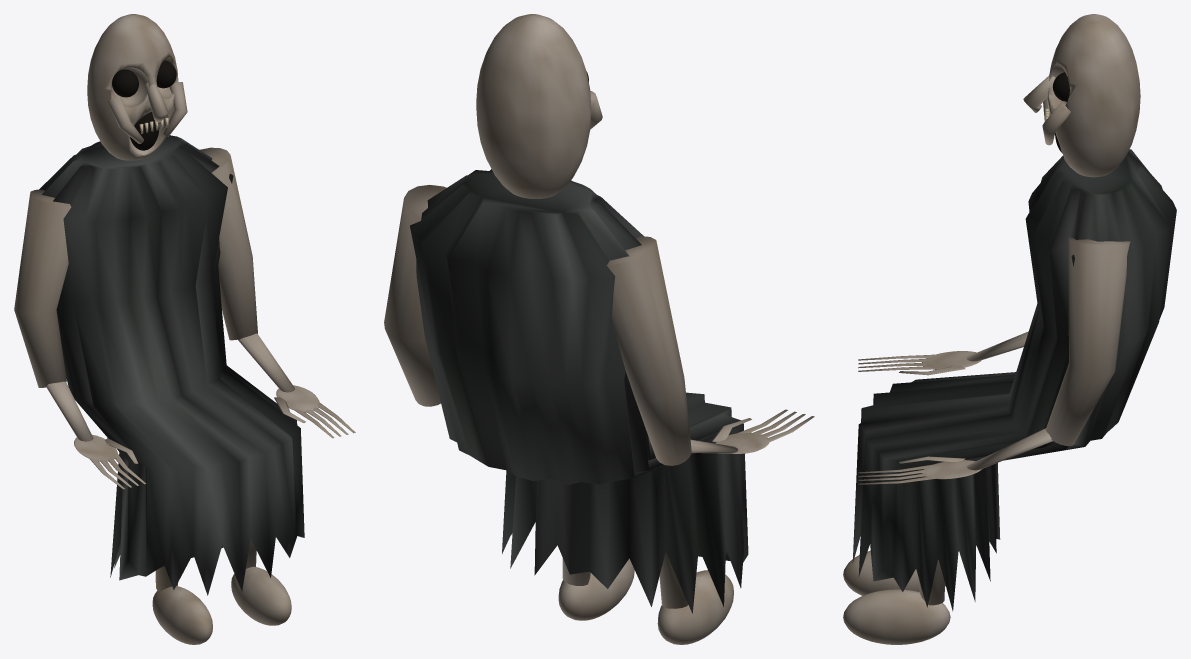
The model's file is seated-visitor.glb.
3 renders of one model, left to right at view 1: azimuth 30°, elevation 25°; view 2: azimuth 150°, elevation 25°; view 3: azimuth 270°, elevation 25°, orthographic. The views are drawn at different scales.
Parts seen in each view (by area): view 1: Torso, ArmL, ArmR, Head, LegL, LegR, Cheek ridge.001, Cheek ridge, Hollow eyes, Mouth darkness, Nasal bone; view 2: Torso, Head, ArmL, ArmR, LegL, LegR; view 3: Torso, ArmR, Head, LegR, ArmL, LegL, Cheek ridge.001, Nasal bone.
Boxes of the visible parts, box(x1,y1,x2,y2) form: Torso: box(39, 135, 304, 595); ArmL: box(14, 189, 146, 489); ArmR: box(199, 147, 355, 438); Head: box(87, 14, 178, 160); LegL: box(152, 566, 212, 644); LegR: box(231, 539, 291, 625); Cheek ridge.001: box(162, 82, 187, 136); Cheek ridge: box(107, 96, 143, 143); Hollow eyes: box(112, 69, 138, 97); Mouth darkness: box(130, 111, 159, 150); Nasal bone: box(145, 83, 168, 122); Torso: box(410, 169, 748, 613); Head: box(476, 14, 591, 198); ArmL: box(607, 236, 814, 465); ArmR: box(384, 185, 446, 406); LegL: box(657, 552, 733, 644); LegR: box(558, 558, 634, 620); Torso: box(852, 149, 1176, 611); ArmR: box(858, 236, 1130, 484); Head: box(1047, 14, 1140, 177); LegR: box(843, 559, 950, 644); ArmL: box(858, 331, 1028, 375); LegL: box(843, 550, 945, 595); Cheek ridge.001: box(1042, 101, 1070, 145); Nasal bone: box(1023, 75, 1055, 112).
Bounding box in the file's own units: 0.84 × 1.86 × 0.9312.
